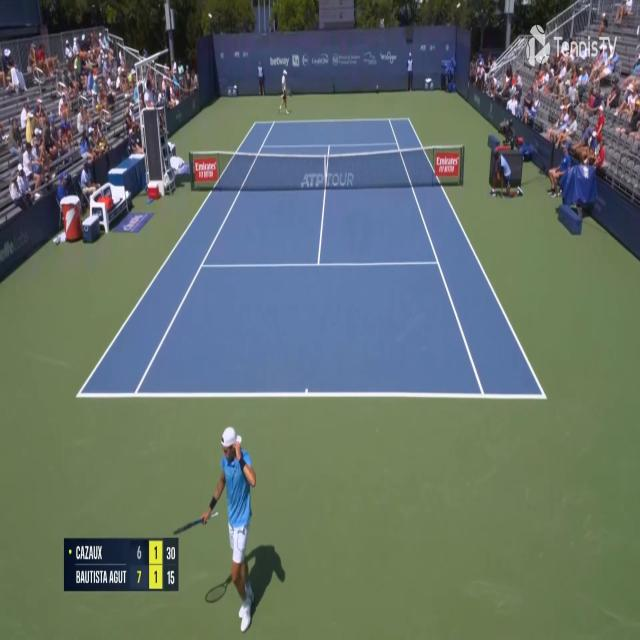tennis-player: (197, 422, 285, 635), (279, 68, 291, 115)
